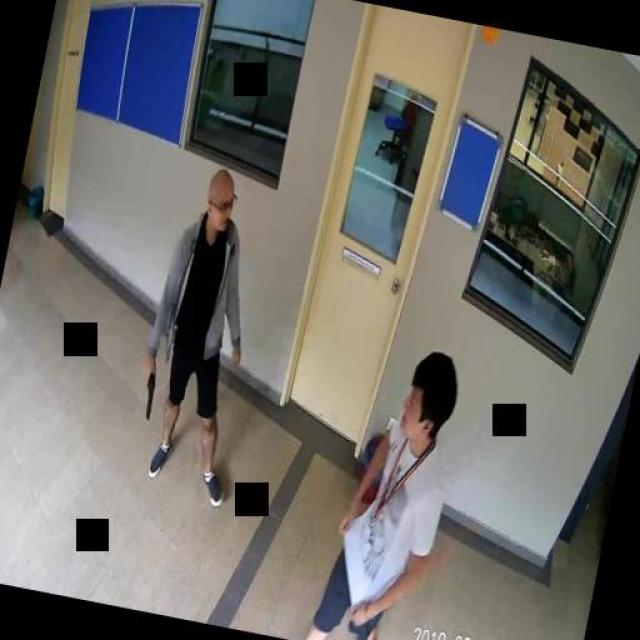gun: (138, 364, 158, 420)
